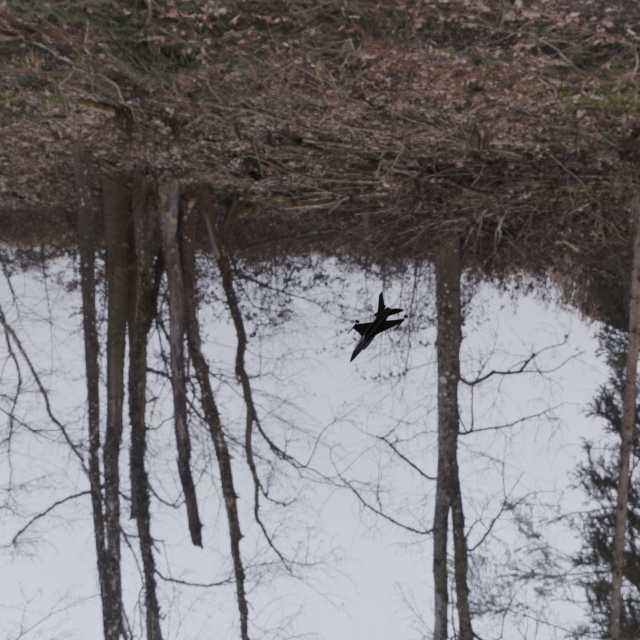model: (314, 288, 416, 371)
